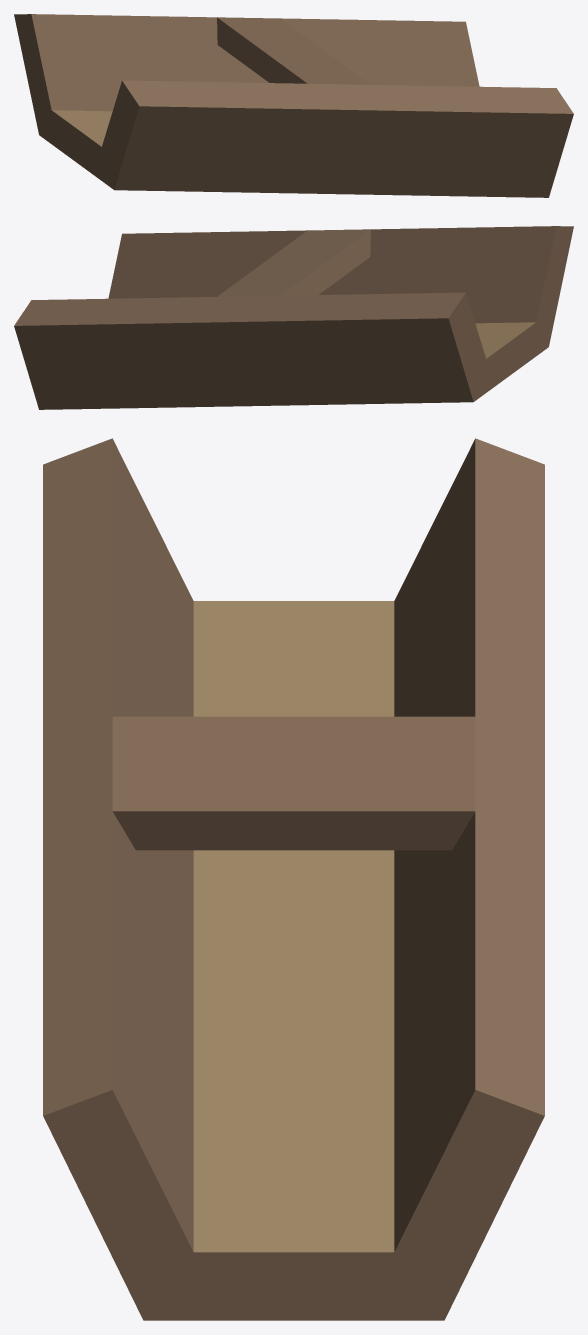
Rendered from Waterwheel_Flume_Ramp.obj.
3 views of the same model, one above another, from view 1: azimuth 30°, elevation 25°; view 2: azimuth 150°, elevation 25°; view 3: azimuth 270°, elevation 25° (orthographic). The views are drawn at different scales.
Parts seen in each view (by area): view 1: flume_ramp; view 2: flume_ramp; view 3: flume_ramp.
Part boxes in pixels (x1=…): flume_ramp: x1=14, y1=14, x2=573, y2=197; flume_ramp: x1=14, y1=226, x2=573, y2=409; flume_ramp: x1=43, y1=438, x2=544, y2=1320.
Size of the model in its own units: 1 by 0.5038 by 0.5.
